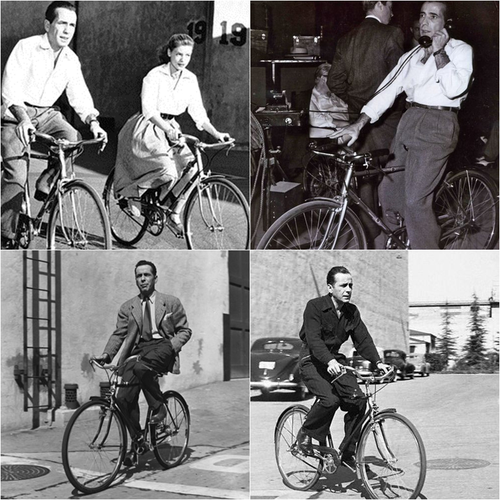bikerider: (276, 263, 437, 500), (56, 257, 217, 486), (107, 34, 244, 248), (6, 8, 106, 239)
